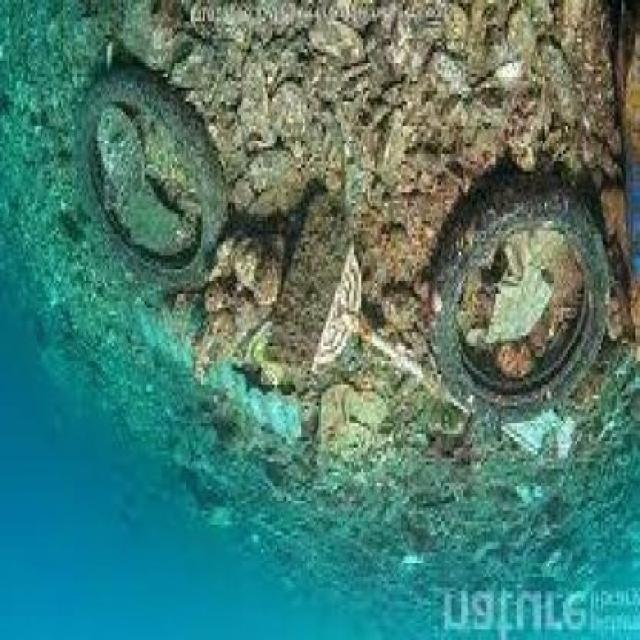misc: (277, 161, 363, 399)
tire: (426, 154, 612, 437), (69, 74, 249, 335)
